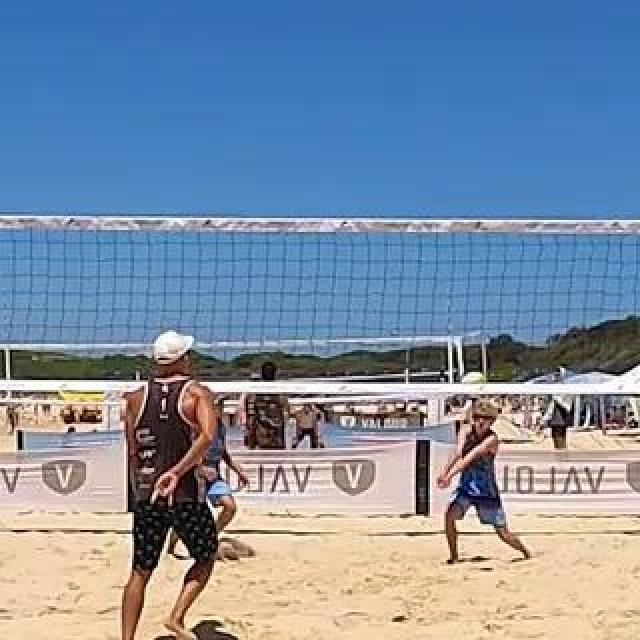volleyball: (460, 370, 488, 400)
